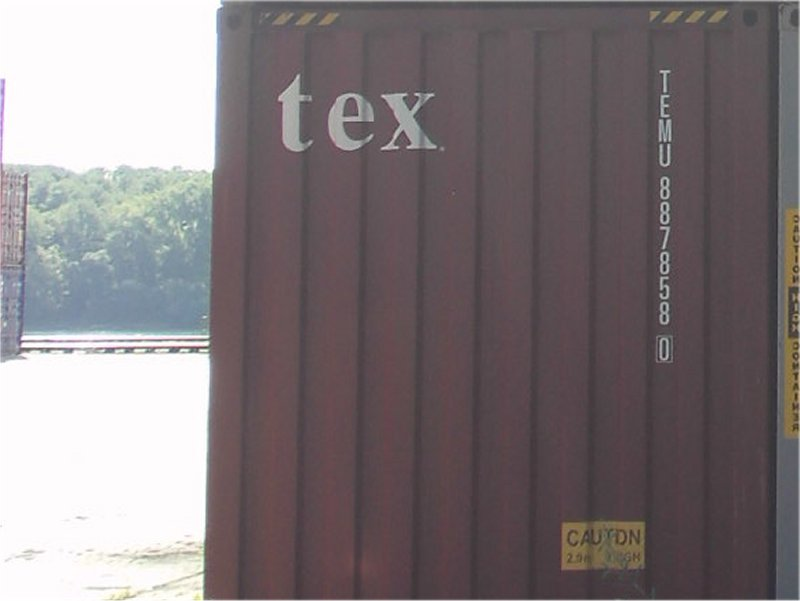container_no_door: (218, 9, 781, 592)
